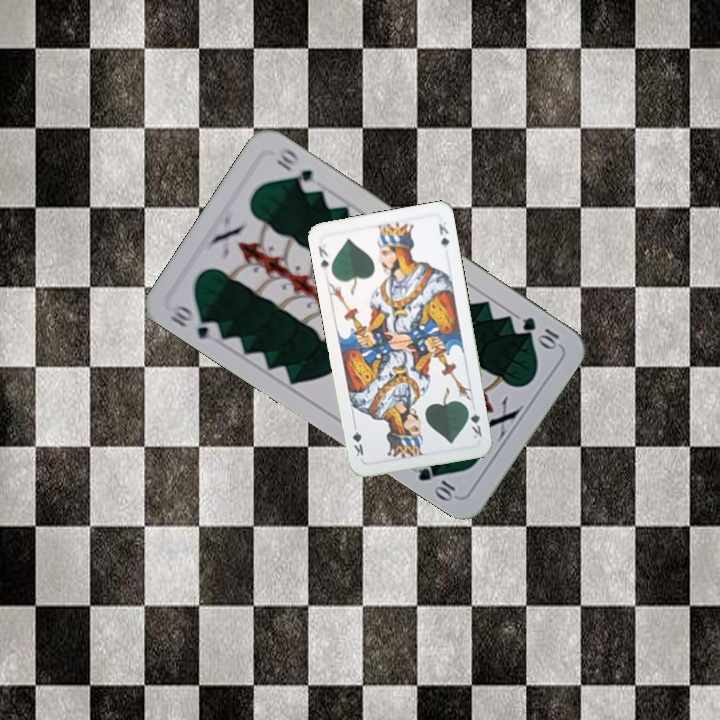G10: (166, 300, 224, 344), (518, 312, 562, 351)
GK: (463, 402, 485, 441), (314, 240, 332, 274)
